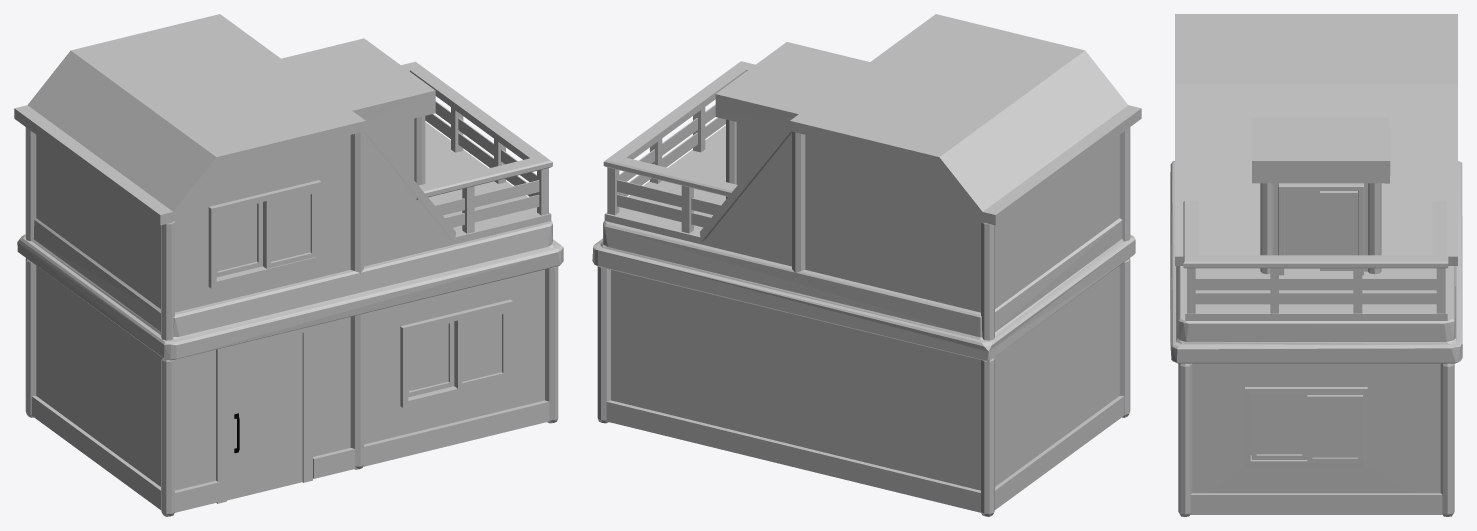
Rendered from house6.obj.
3 views of the same model, side by side, from view 1: azimuth 30°, elevation 25°; view 2: azimuth 150°, elevation 25°; view 3: azimuth 270°, elevation 25° (orthographic). The views are drawn at different scales.
Visible parts, largest first — view 1: mesh_0, mesh_12, mesh_10, mesh_9, mesh_1, mesh_3, mesh_2, mesh_4; view 2: mesh_0, mesh_12, mesh_9; view 3: mesh_0, mesh_12, mesh_9, mesh_5, mesh_6, mesh_8, mesh_7.
Part boxes in pixels (<box>): mesh_0: <box>17,61,563,516</box>; mesh_12: <box>14,14,455,241</box>; mesh_10: <box>227,333,302,500</box>; mesh_9: <box>281,38,435,128</box>; mesh_1: <box>454,308,507,388</box>; mesh_3: <box>263,189,315,268</box>; mesh_2: <box>408,321,454,397</box>; mesh_4: <box>216,202,262,277</box>; mesh_0: <box>592,61,1135,516</box>; mesh_12: <box>700,14,1141,242</box>; mesh_9: <box>715,42,869,132</box>; mesh_0: <box>1170,161,1462,516</box>; mesh_12: <box>1175,14,1457,265</box>; mesh_9: <box>1252,117,1390,183</box>; mesh_5: <box>1307,395,1362,462</box>; mesh_6: <box>1251,395,1307,459</box>; mesh_8: <box>1320,191,1357,270</box>; mesh_7: <box>1284,191,1319,255</box>.
Bounding box in the file's own units: 1.21 × 1 × 0.7785.
